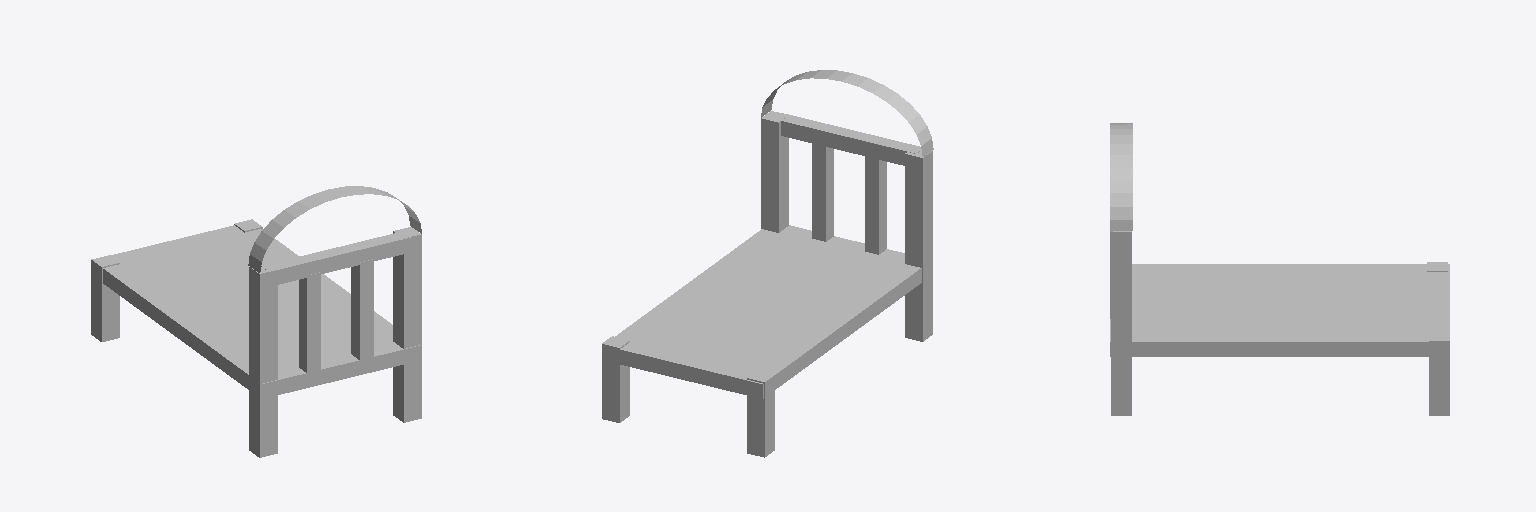
Rendered from bed.obj.
3 renders of one model, left to right at view 1: azimuth 30°, elevation 25°; view 2: azimuth 150°, elevation 25°; view 3: azimuth 270°, elevation 25°, orthographic.
Parts seen in each view (by area): view 1: Circle; view 2: Circle; view 3: Circle.
Boxes of the visible parts, x1=… form: Circle: x1=91, y1=186, x2=421, y2=457; Circle: x1=602, y1=70, x2=933, y2=457; Circle: x1=1110, y1=123, x2=1449, y2=415.
Bounding box in the file's own units: 4.51 × 6.4 × 8.19.